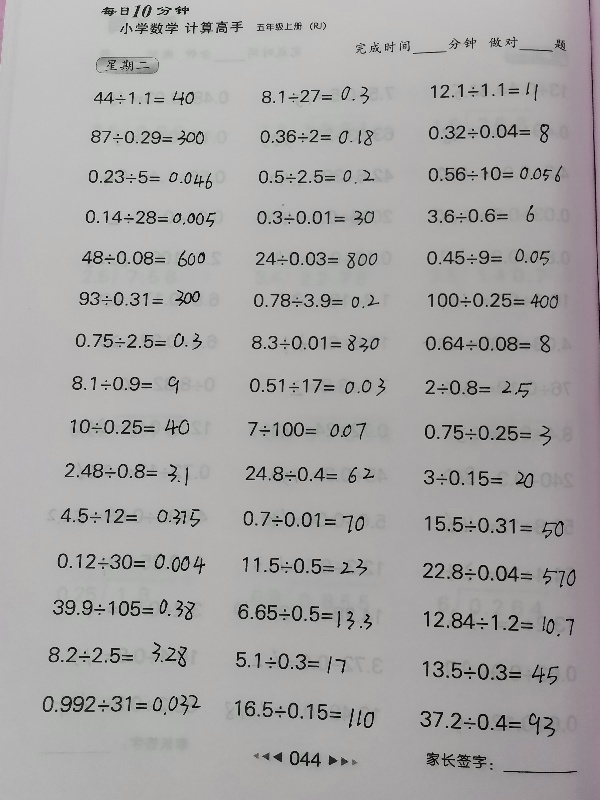equation: (39, 691, 205, 719), (231, 697, 378, 727), (51, 503, 212, 530), (419, 561, 579, 588), (417, 705, 559, 735), (233, 600, 376, 629), (420, 609, 577, 635), (53, 549, 208, 575), (49, 594, 198, 621), (420, 513, 567, 540), (45, 643, 197, 669), (420, 421, 555, 449), (418, 659, 562, 685), (62, 457, 192, 485), (246, 375, 390, 400), (425, 120, 554, 147), (422, 331, 555, 357), (238, 553, 370, 579), (239, 507, 368, 533), (71, 329, 205, 354), (424, 288, 562, 312), (422, 244, 553, 269), (247, 330, 383, 354), (79, 246, 209, 271), (425, 163, 566, 186), (242, 462, 377, 486), (252, 247, 381, 272), (81, 206, 219, 229), (84, 166, 216, 190), (423, 204, 549, 229), (244, 418, 369, 443), (68, 372, 193, 397), (75, 286, 203, 310), (67, 415, 194, 439), (232, 649, 349, 675), (426, 77, 541, 103), (250, 290, 383, 312), (257, 126, 378, 150), (258, 83, 373, 108), (421, 375, 535, 400), (420, 466, 537, 490), (86, 126, 208, 149), (253, 207, 379, 229), (255, 166, 378, 188), (91, 87, 199, 109)
